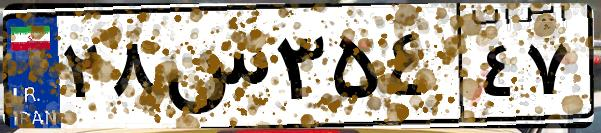2: (57, 26, 110, 100)
3: (270, 28, 330, 110)
4: (385, 28, 445, 110), (475, 38, 525, 113)
5: (330, 28, 385, 110)
7: (525, 38, 570, 115)
8: (110, 28, 158, 98)
س: (158, 20, 270, 120)
